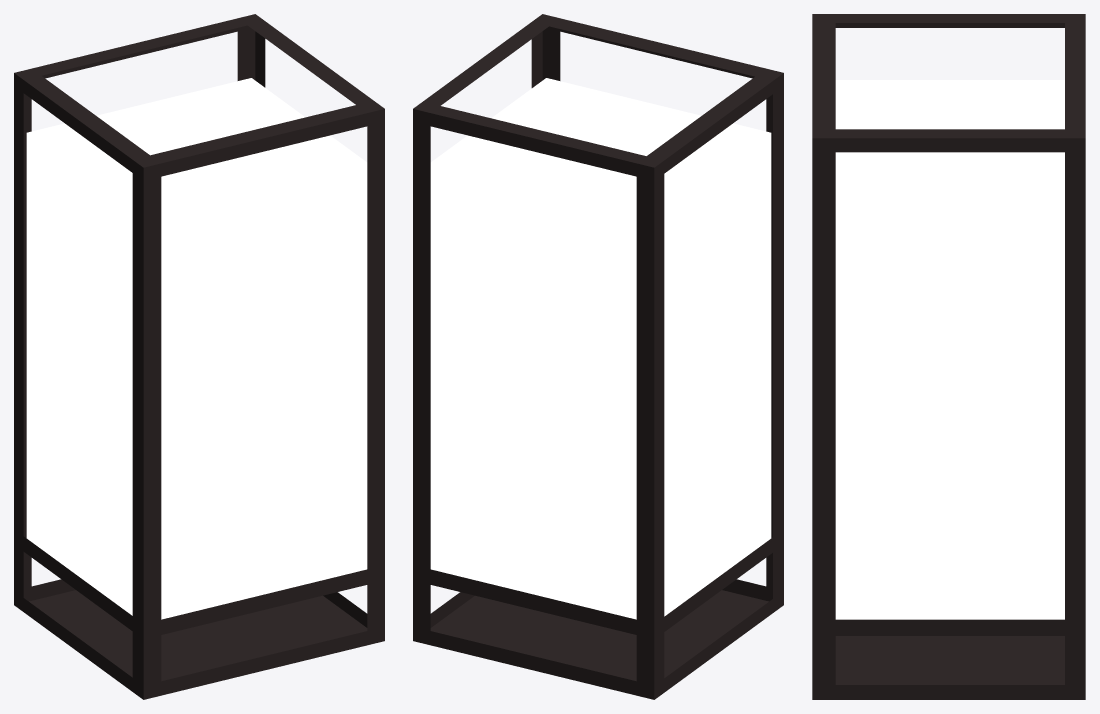
Rendered from assets_lamp.glb.
3 renders of one model, left to right at view 1: azimuth 30°, elevation 25°; view 2: azimuth 150°, elevation 25°; view 3: azimuth 270°, elevation 25°, orthographic. The views are drawn at different scales.
Visible parts, largest first — view 1: lamp_left; view 2: lamp_left; view 3: lamp_left.
Boxes of the visible parts, box(x1,y1,x2,y2) form: lamp_left: box(14, 14, 384, 699); lamp_left: box(413, 14, 783, 699); lamp_left: box(812, 14, 1085, 699).
Bounding box in the file's own units: 0.2365 × 0.4983 × 0.2198.
2 materials, 1 textured.
